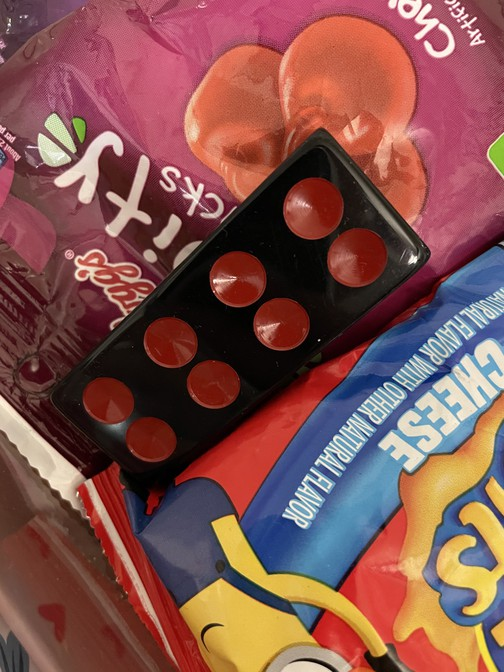man: (51, 128, 431, 494)
